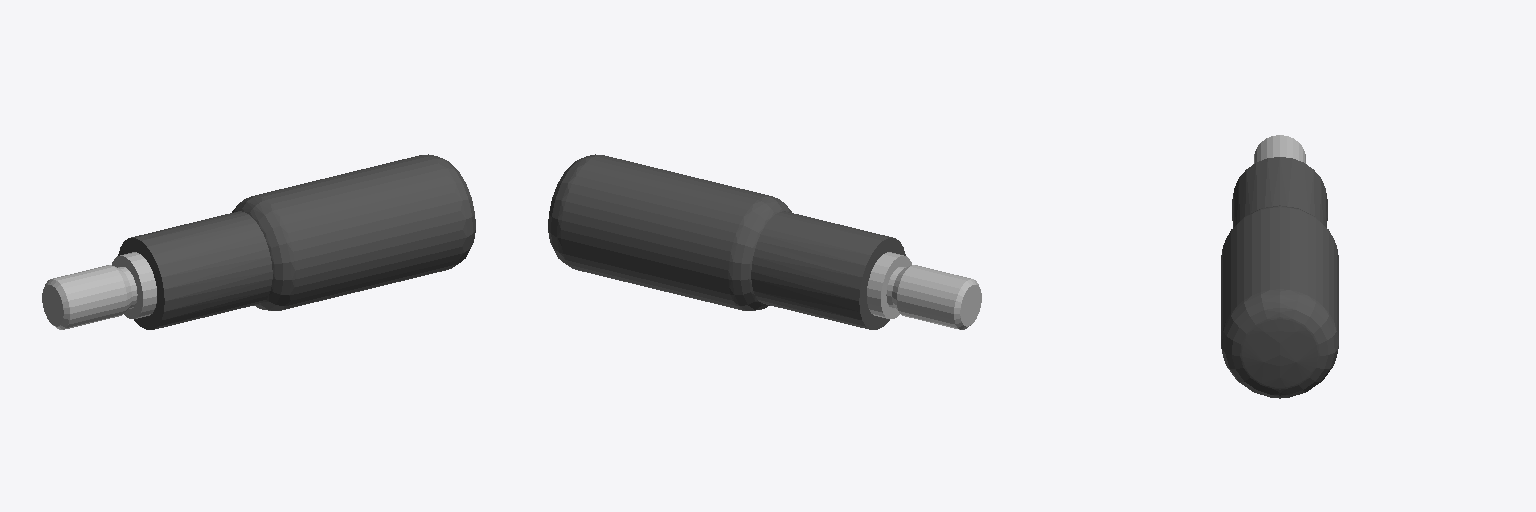
3 views of the same model, side by side, from view 1: azimuth 30°, elevation 25°; view 2: azimuth 150°, elevation 25°; view 3: azimuth 270°, elevation 25° (orthographic).
Visible parts, largest first — view 1: gn_798-kt-18-m8_1; view 2: gn_798-kt-18-m8_1; view 3: gn_798-kt-18-m8_1.
Part boxes in pixels (left/top/right/bottom): gn_798-kt-18-m8_1: left=42, top=154, right=475, bottom=329; gn_798-kt-18-m8_1: left=548, top=154, right=981, bottom=329; gn_798-kt-18-m8_1: left=1221, top=135, right=1338, bottom=398.
Size of the model in its own units: 71.5 by 18 by 17.94.